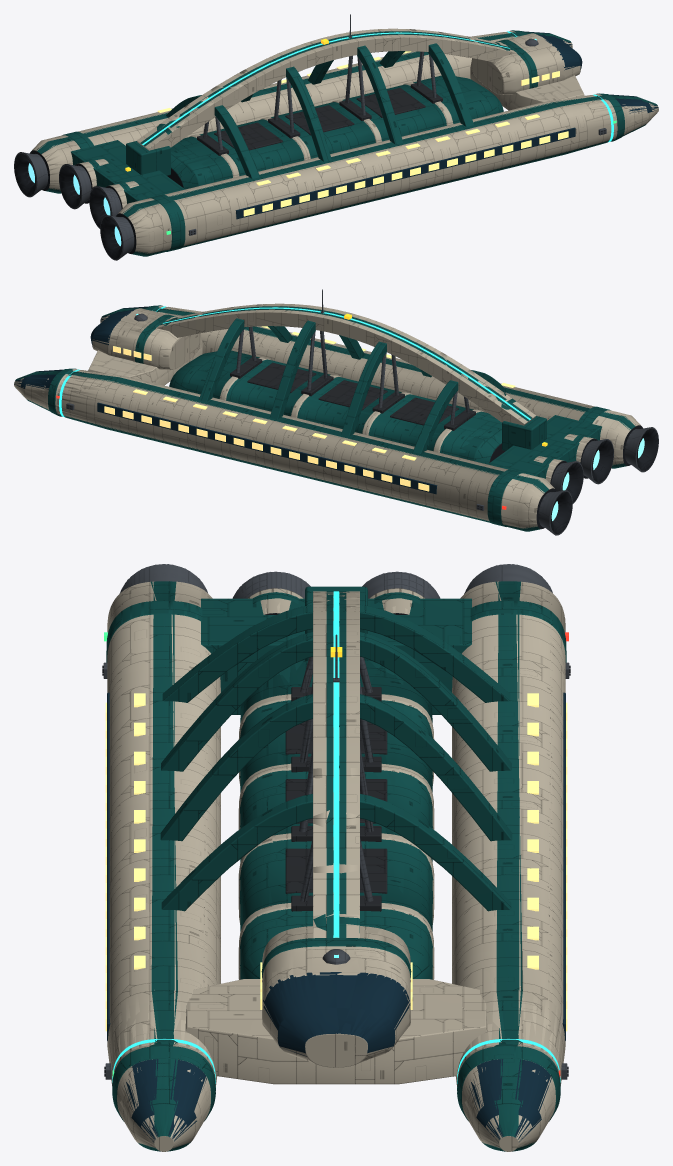
File: helios_arclight.glb
The picture shows the model from 3 angles, top to bottom: view 1: azimuth 30°, elevation 25°; view 2: azimuth 150°, elevation 25°; view 3: azimuth 270°, elevation 25°; orthographic projection. The views are drawn at different scales.
Visible parts, largest first — view 1: LOD1_Hull, LOD2_Hull, LOD0_Hull, LOD0_Armor, LOD2_Armor, LOD1_Armor, LOD0_Hull_graphite, LOD1_Livery, LOD0_Mechanical, LOD0_CANOPY, LOD0_Livery, LOD0_Lights_Warm (+10 smaller); view 2: LOD1_Hull, LOD2_Hull, LOD0_Hull, LOD0_Armor, LOD2_Armor, LOD1_Armor, LOD0_Hull_graphite, LOD1_Livery, LOD0_Mechanical, LOD0_CANOPY, LOD0_Livery, LOD0_Lights_Warm (+10 smaller); view 3: LOD0_Armor, LOD1_Hull, LOD0_Hull, LOD2_Hull, LOD2_Armor, LOD1_Livery, LOD1_Armor, LOD0_Livery, LOD0_CANOPY, LOD1_CANOPY, LOD0_Mechanical, LOD0_Hull_graphite (+8 smaller).
Part boxes in pixels (x1,y1,x2,y2): LOD1_Hull: (44,31,658,253); LOD2_Hull: (33,29,658,252); LOD0_Hull: (32,28,658,253); LOD0_Armor: (46,30,644,256); LOD2_Armor: (47,30,644,256); LOD1_Armor: (64,30,646,256); LOD0_Hull_graphite: (197,82,442,155); LOD1_Livery: (49,32,653,208); LOD0_Mechanical: (14,15,606,260); LOD0_CANOPY: (235,33,651,219); LOD0_Livery: (37,31,657,217); LOD0_Lights_Warm: (157,51,568,216); LOD1_Hull: (14,303,628,528); LOD2_Hull: (14,304,640,528); LOD0_Hull: (14,303,640,528); LOD0_Armor: (28,305,626,531); LOD2_Armor: (23,305,625,531); LOD1_Armor: (27,305,608,531); LOD0_Hull_graphite: (230,357,475,430); LOD1_Livery: (17,306,623,483); LOD0_Mechanical: (66,290,658,535); LOD0_CANOPY: (21,309,436,494); LOD0_Livery: (15,306,634,492); LOD0_Lights_Warm: (104,326,515,491); LOD0_Armor: (106,586,566,1151); LOD1_Hull: (107,581,565,1147); LOD0_Hull: (107,581,565,1151); LOD2_Hull: (107,581,565,1149); LOD2_Armor: (107,592,565,1151); LOD1_Livery: (150,581,522,1136); LOD1_Armor: (107,586,565,1150); LOD0_Livery: (154,581,518,1137); LOD0_CANOPY: (107,692,565,1126); LOD1_CANOPY: (132,972,551,1141); LOD0_Mechanical: (103,564,569,1079); LOD0_Hull_graphite: (285,687,387,911).
Size of what is drawn, in the model's own units: 32.12 by 8.93 by 11.94.
14 materials, 6 textured.
